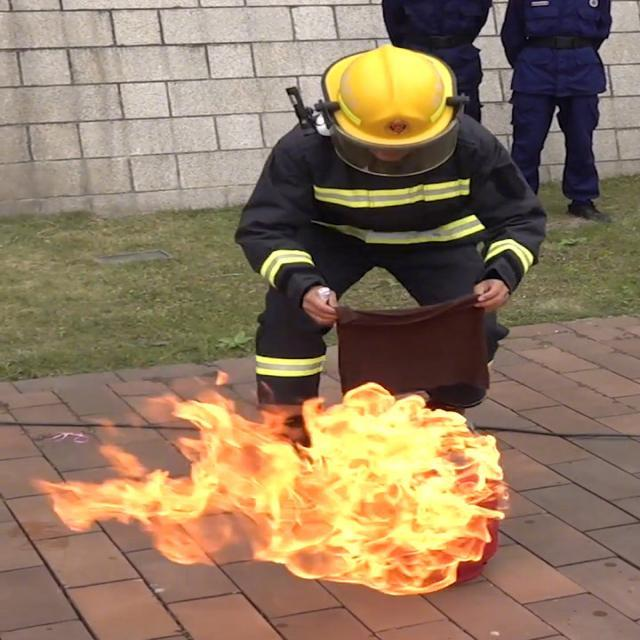Fire: (49, 382, 502, 598)
